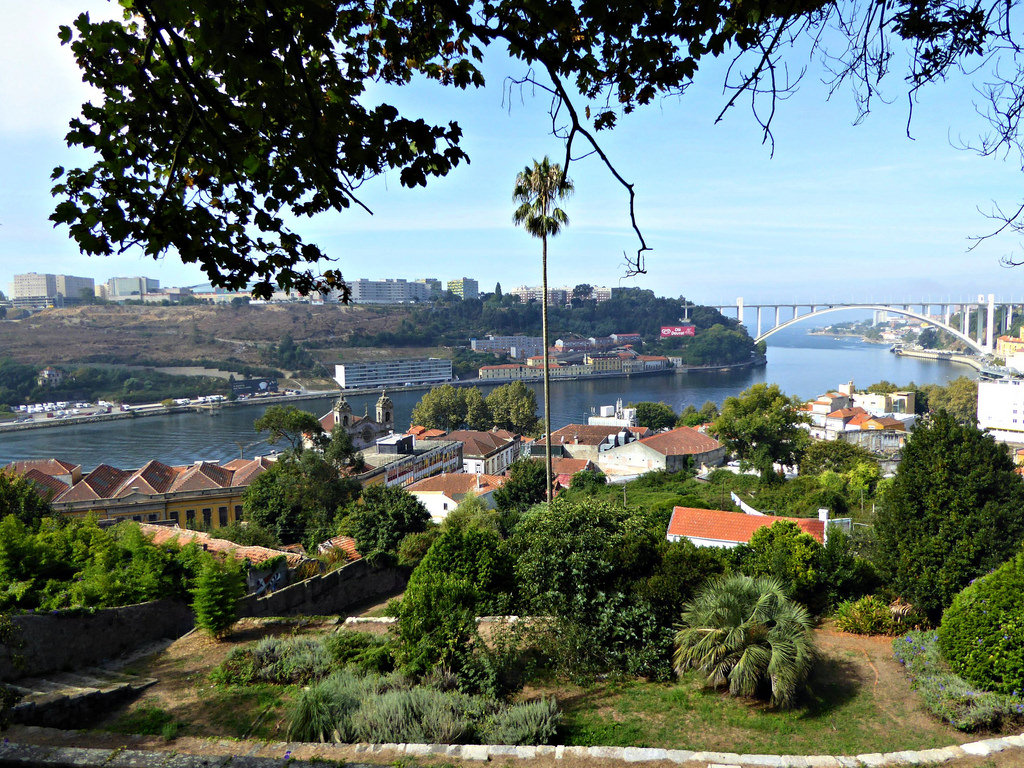arrabida: (700, 295, 1023, 358)
